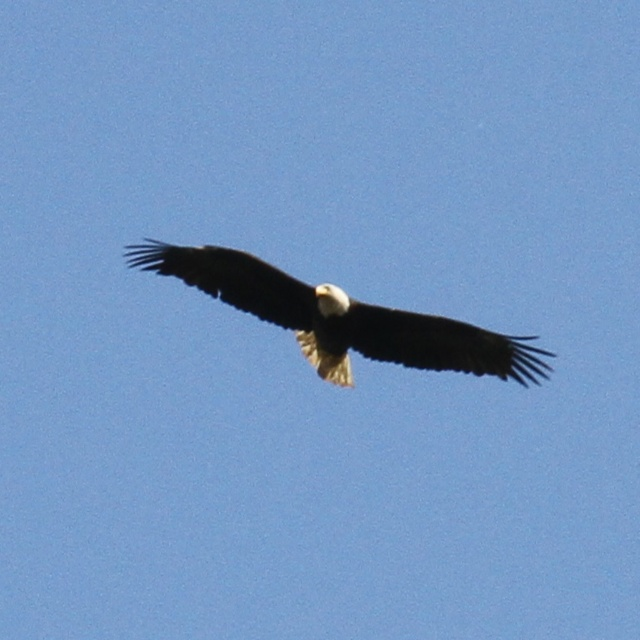Eagle: (123, 238, 556, 388)
